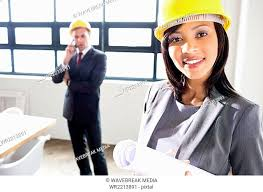Person_wearing_helmet: (149, 0, 232, 51)
